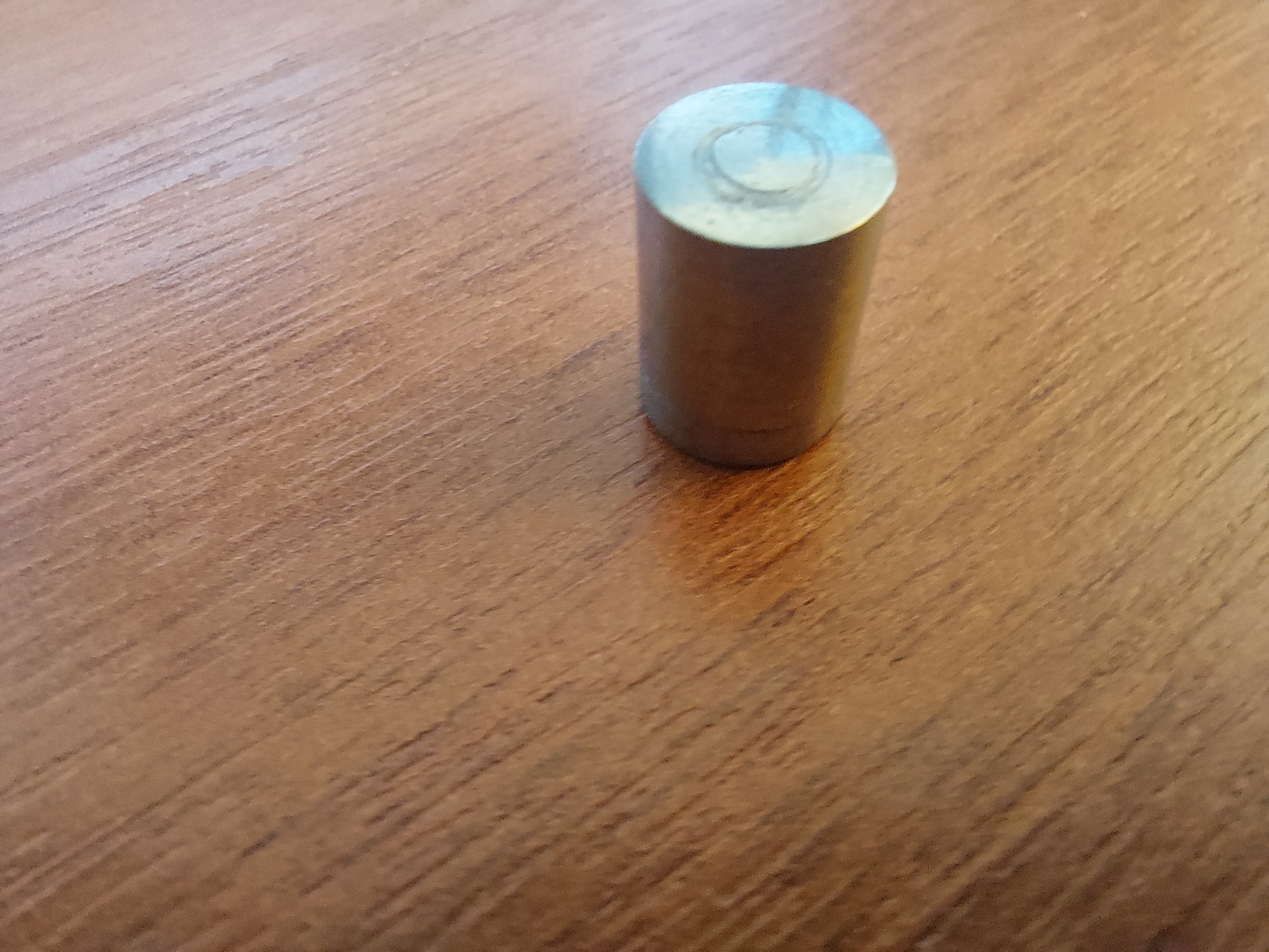tablet: (606, 58, 882, 499)
